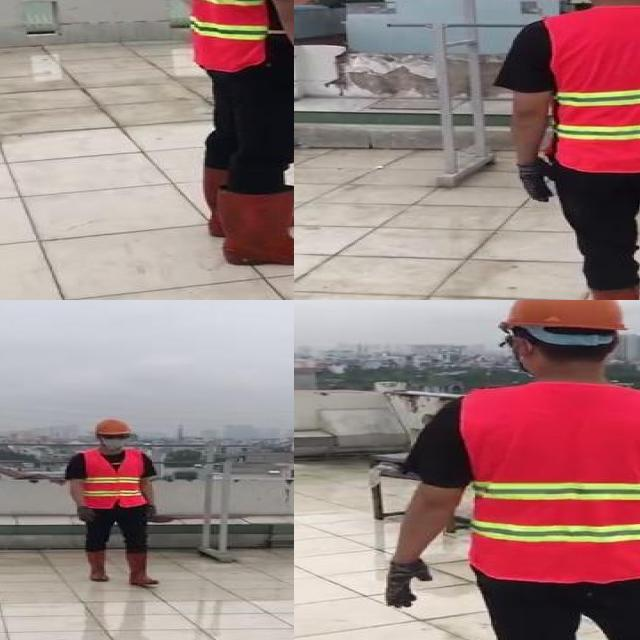boots: (208, 183, 294, 268), (125, 550, 163, 585), (83, 548, 113, 582)
face_mask: (99, 432, 129, 450)
glasses: (96, 432, 132, 442)
hand_glove: (384, 560, 434, 607), (513, 162, 561, 201), (145, 505, 161, 523), (74, 513, 98, 523)
head_helmet: (494, 300, 635, 338), (91, 418, 132, 436)
person: (380, 300, 640, 640), (497, 0, 640, 300), (170, 0, 294, 272), (61, 420, 170, 590)
vest: (461, 384, 640, 584), (543, 7, 640, 171), (180, 0, 294, 71), (79, 448, 145, 509)
